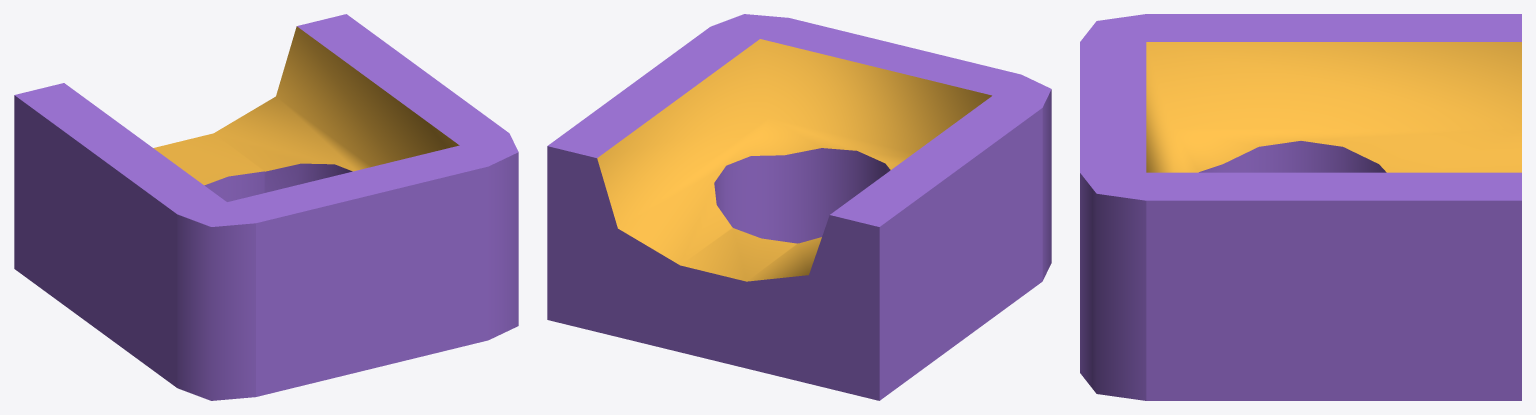
The model's file is kenney-marble-end-hole-rounded.glb.
The picture shows the model from 3 angles, left to right: view 1: azimuth 30°, elevation 25°; view 2: azimuth 150°, elevation 25°; view 3: azimuth 270°, elevation 25°; orthographic projection. The views are drawn at different scales.
Visible parts, largest first — view 1: end-hole-rounded; view 2: end-hole-rounded; view 3: end-hole-rounded.
Boxes of the visible parts, x1,y1,x2,y2 form: end-hole-rounded: [14, 14, 518, 400]; end-hole-rounded: [547, 14, 1051, 400]; end-hole-rounded: [1080, 14, 1521, 400].
Size of the model in its own units: 1 by 0.5001 by 1.
Materials: 1 (1 with a texture image).
